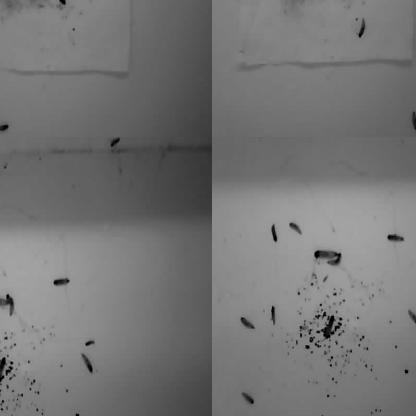PtecticusTenebrifer: (79, 351, 94, 373), (355, 16, 368, 40), (315, 249, 339, 260), (240, 315, 255, 332), (386, 233, 405, 244), (407, 306, 416, 329), (241, 390, 254, 405), (53, 276, 70, 286), (109, 137, 121, 150), (290, 221, 302, 234), (30, 0, 47, 9), (0, 294, 11, 306), (272, 222, 278, 243), (0, 121, 10, 133), (0, 170, 6, 190), (0, 383, 10, 395), (0, 351, 7, 368), (84, 339, 97, 348), (271, 304, 276, 327), (411, 110, 416, 132), (226, 0, 235, 12), (333, 0, 351, 6), (212, 338, 220, 351), (0, 255, 7, 269), (0, 344, 3, 364), (0, 0, 8, 6), (0, 0, 3, 15), (0, 274, 2, 295), (212, 137, 217, 145), (212, 0, 215, 10), (0, 0, 5, 4)
